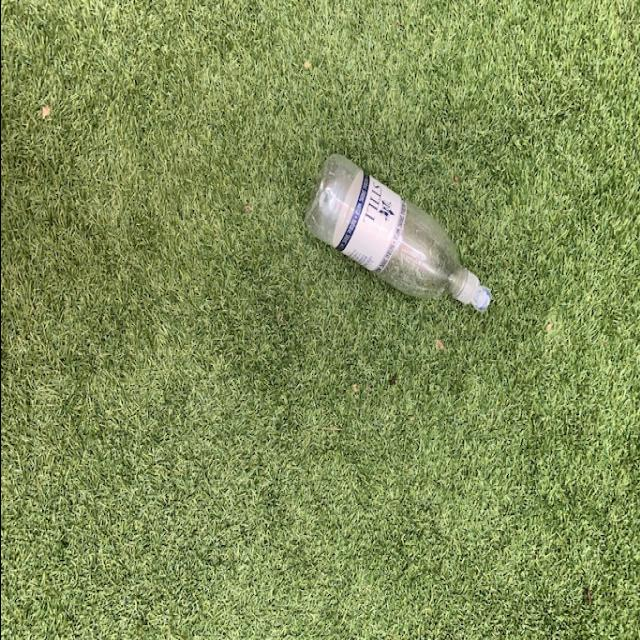PET: (298, 155, 494, 314)
